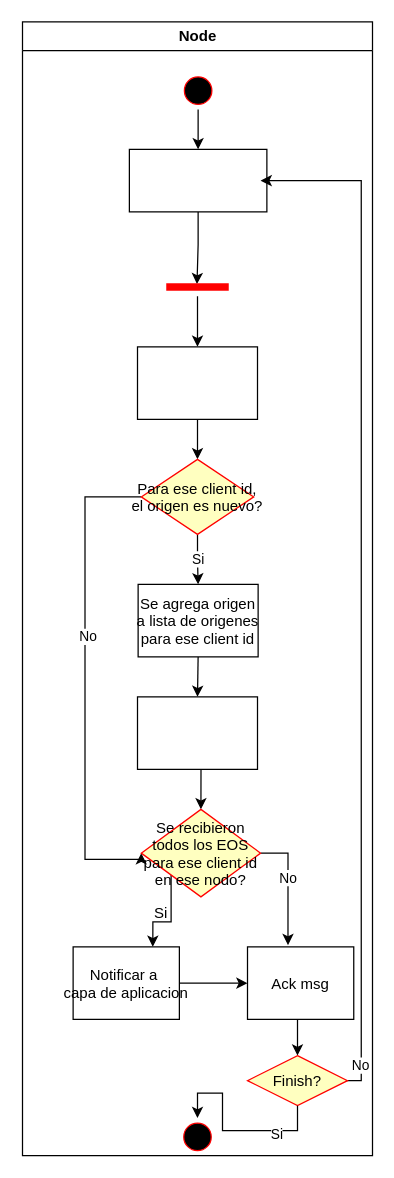
Image size: 394x1178. Some labels were removed from this diagram. The shapes that lost their labels are listed below. From the top down, each one's centre as x and y in pixels, then its label:
At point (197, 180): "Recibir EOF".
At point (197, 382): "Tomar client id y origen (desde que nodo vino) del mensaje".
At point (197, 732): "Toma snapshot de la tabla de origenes y dumpea a disco".
